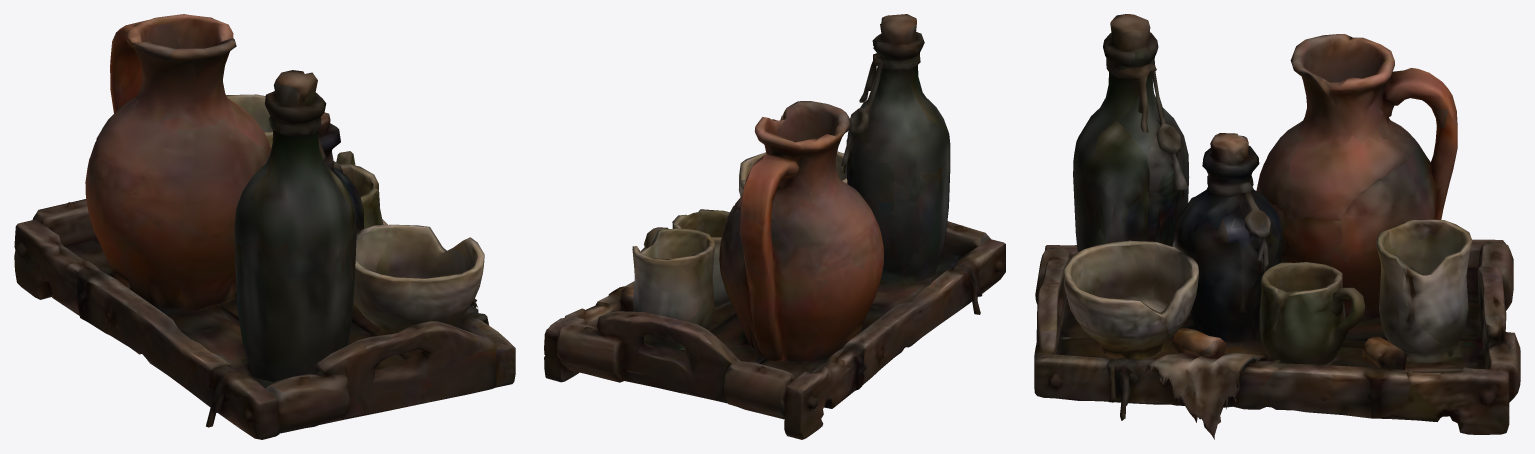
The model's file is bottles-jugs-crockery-cluster.glb.
The picture shows the model from 3 angles, left to right: view 1: azimuth 30°, elevation 25°; view 2: azimuth 150°, elevation 25°; view 3: azimuth 270°, elevation 25°; orthographic projection. The views are drawn at different scales.
Visible parts, largest first — view 1: tripo_node_dddbf268-1fcb-4819-a1e0-55c7cacecc6d; view 2: tripo_node_dddbf268-1fcb-4819-a1e0-55c7cacecc6d; view 3: tripo_node_dddbf268-1fcb-4819-a1e0-55c7cacecc6d.
Part boxes in pixels (left/top/right/bottom): tripo_node_dddbf268-1fcb-4819-a1e0-55c7cacecc6d: left=14, top=14, right=515, bottom=439; tripo_node_dddbf268-1fcb-4819-a1e0-55c7cacecc6d: left=544, top=14, right=1005, bottom=439; tripo_node_dddbf268-1fcb-4819-a1e0-55c7cacecc6d: left=1034, top=14, right=1520, bottom=439.
Bounding box in the file's own units: 0.708 × 0.7248 × 1.
1 material, 1 textured.
